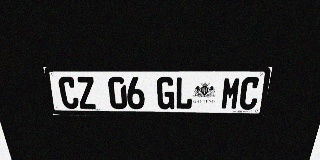0: (107, 77, 127, 109)
6: (126, 77, 145, 109)
C: (238, 77, 261, 110), (57, 77, 80, 109)
G: (157, 77, 175, 109)
L: (175, 77, 194, 109)
M: (220, 77, 242, 110)
Z: (76, 77, 97, 109)
